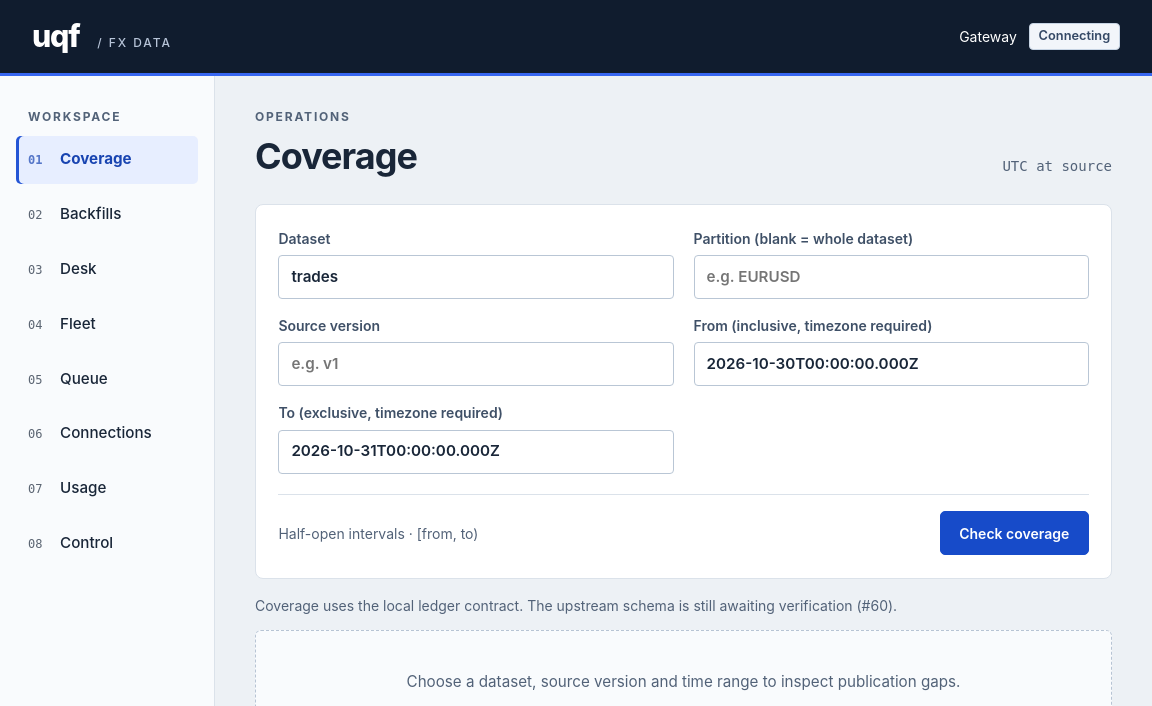
marks a process “all” would not start, and shows liveness when the fleet is known
Step 1. Click the button "08 Control" → click(107, 543), box [16,519,198,568]
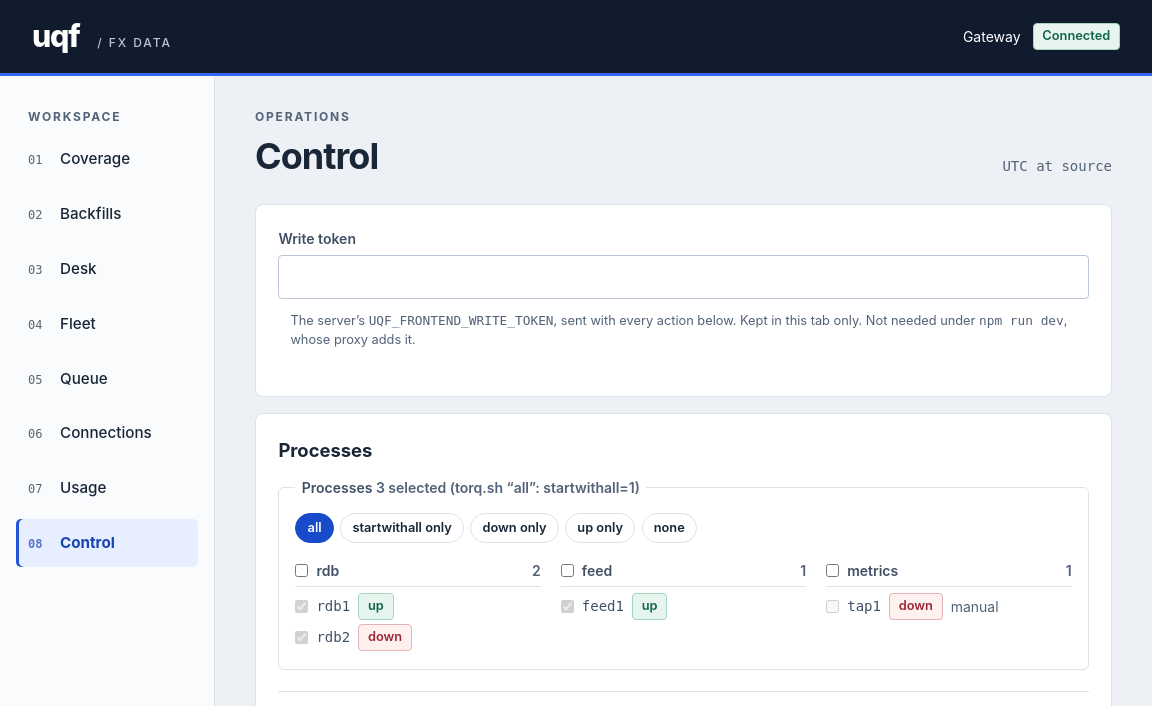
Expected: the text "tap1" shows "manual", [951,598,999,615]
Expected: the text "tap1" shows "down", [899,598,933,613]
Expected: the text "rdb1" shows "up", [368,598,384,613]
